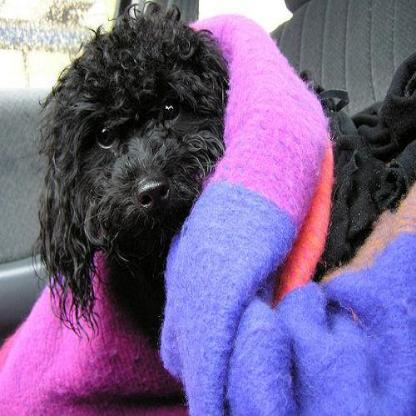toy_poodle: (34, 1, 226, 337)
